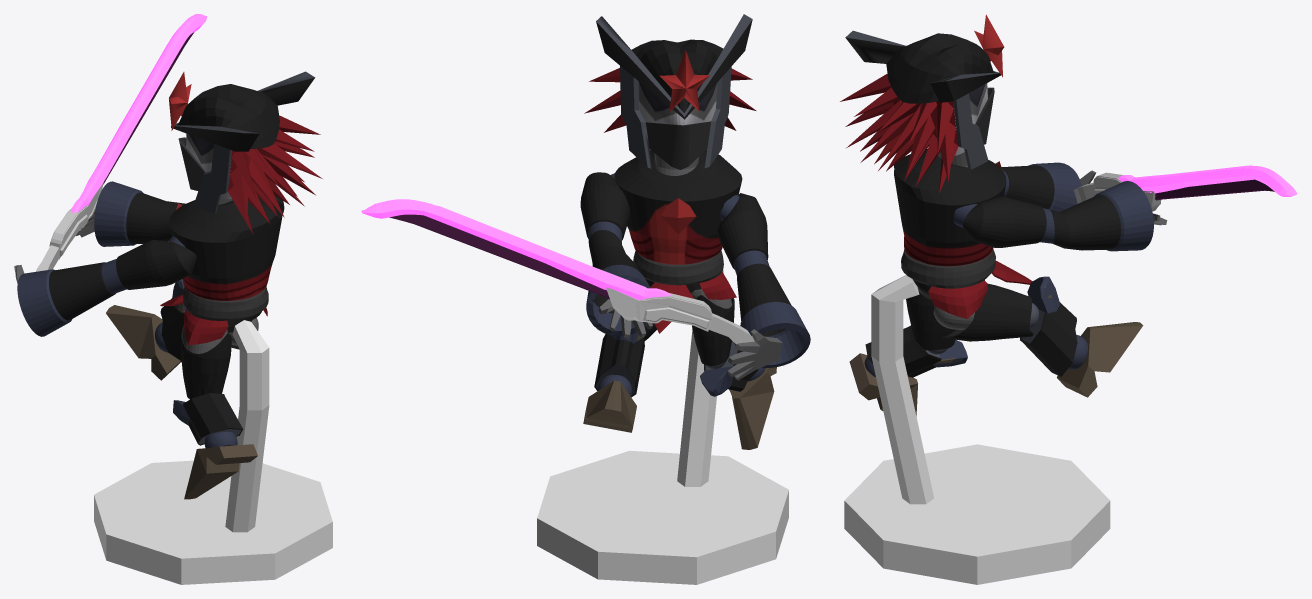
Rendered from Boss Stand & parts.fbx.
The picture shows the model from 3 angles, left to right: view 1: azimuth 30°, elevation 25°; view 2: azimuth 150°, elevation 25°; view 3: azimuth 270°, elevation 25°; orthographic projection. The views are drawn at different scales.
Visible parts, largest first — view 1: Cylinder, Head, Body, L_Hand, R_Foot, StandSupport, Katana, R_Hand, L_Foot; view 2: Cylinder, Head, Body, Katana, L_Hand, R_Hand, R_Foot, L_Foot, StandSupport; view 3: Cylinder, Head, Body, L_Foot, R_Hand, StandSupport, Katana, R_Foot, L_Hand.
Boxes of the visible parts, left/top/right/bottom form: Cylinder: left=94, top=460, right=332, bottom=584; Head: left=169, top=71, right=322, bottom=234; Body: left=160, top=196, right=282, bottom=345; L_Hand: left=14, top=236, right=196, bottom=336; R_Foot: left=173, top=325, right=257, bottom=499; StandSupport: left=225, top=320, right=269, bottom=532; Katana: left=35, top=14, right=207, bottom=271; R_Hand: left=76, top=181, right=284, bottom=246; L_Foot: left=106, top=279, right=258, bottom=380; Cylinder: left=537, top=450, right=788, bottom=584; Head: left=584, top=14, right=756, bottom=175; Body: left=614, top=149, right=742, bottom=333; Katana: left=361, top=199, right=754, bottom=344; L_Hand: left=717, top=193, right=810, bottom=380; R_Hand: left=580, top=172, right=652, bottom=337; R_Foot: left=691, top=289, right=776, bottom=449; L_Foot: left=583, top=286, right=656, bottom=432; StandSupport: left=677, top=269, right=723, bottom=486; Cylinder: left=844, top=444, right=1110, bottom=584; Head: left=840, top=14, right=1004, bottom=193; Body: left=894, top=148, right=1032, bottom=318; L_Foot: left=933, top=276, right=1143, bottom=397; R_Hand: left=953, top=181, right=1167, bottom=251; StandSupport: left=871, top=275, right=934, bottom=504; Katana: left=1073, top=165, right=1297, bottom=211; R_Foot: left=849, top=286, right=967, bottom=416; L_Hand: left=1001, top=162, right=1096, bottom=212.
Bounding box in the file's own units: 523 × 762 × 631.
